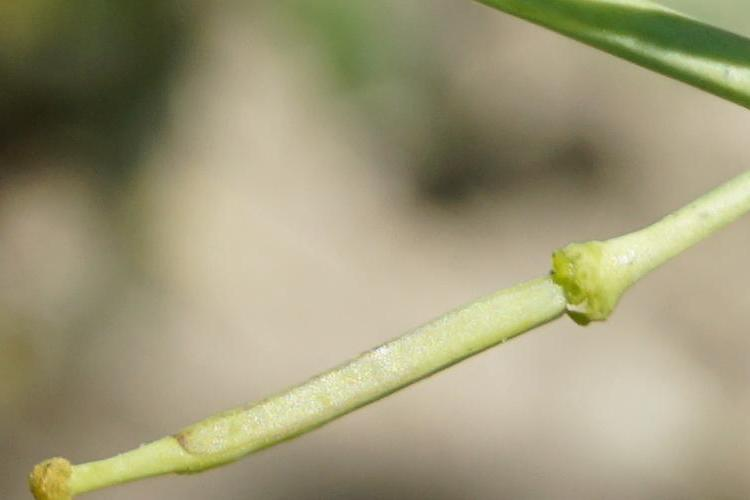pod: (35, 170, 734, 500)
